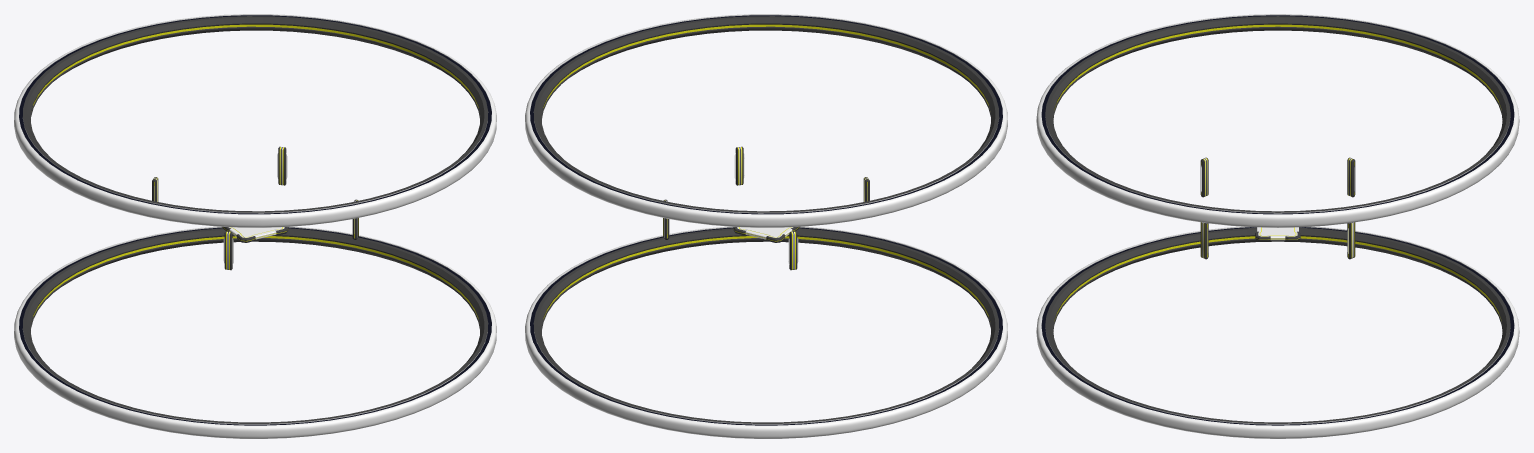
The model's file is Beat_Master_Envirronnement.fbx.
The picture shows the model from 3 angles, left to right: view 1: azimuth 30°, elevation 25°; view 2: azimuth 150°, elevation 25°; view 3: azimuth 270°, elevation 25°; orthographic projection.
Visible parts, largest first — view 1: Torus001, Torus002, Box001; view 2: Torus001, Torus002, Box001; view 3: Torus001, Torus002, Box001.
Boxes of the visible parts, x1=… form: Torus001: x1=14, y1=14, x2=496, y2=227; Torus002: x1=14, y1=226, x2=496, y2=438; Box001: x1=222, y1=227, x2=288, y2=242; Torus001: x1=525, y1=14, x2=1007, y2=227; Torus002: x1=525, y1=226, x2=1007, y2=438; Box001: x1=733, y1=227, x2=799, y2=242; Torus001: x1=1036, y1=14, x2=1519, y2=227; Torus002: x1=1036, y1=226, x2=1519, y2=438; Box001: x1=1255, y1=227, x2=1300, y2=241.
Bounding box in the file's own units: 62.21 × 31.82 × 62.21.
Materials: 5 (1 with a texture image).
